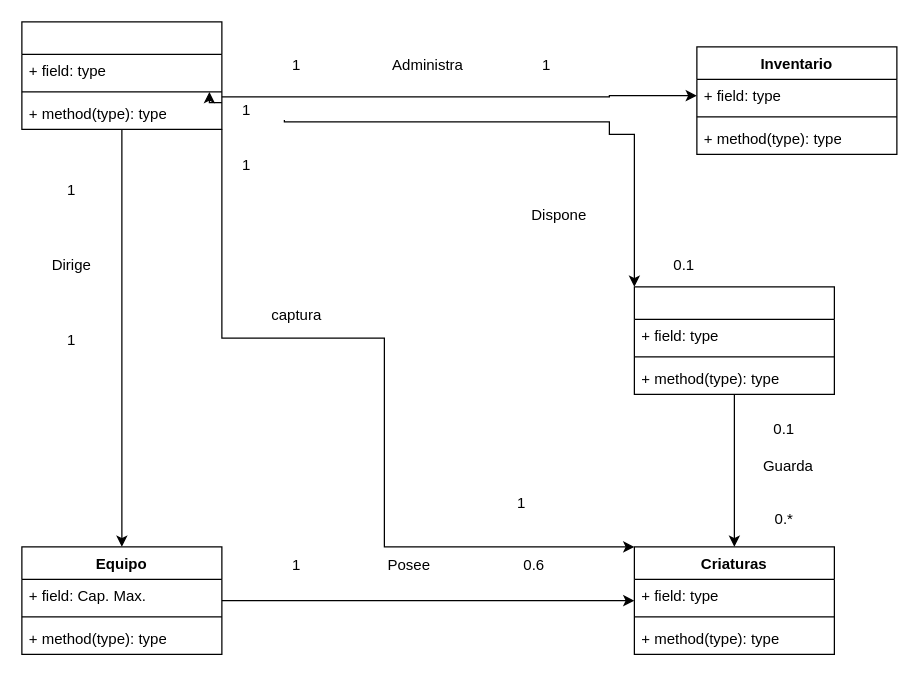
This 919x680 diagram has some shape labels left out. The box of each missing label's shape, as (x1, y1, x2, y2) in pixels:
Entrenador: (21, 21, 222, 129)
Reserva: (633, 286, 834, 394)
